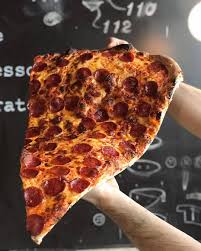pizza: (22, 49, 184, 242)
